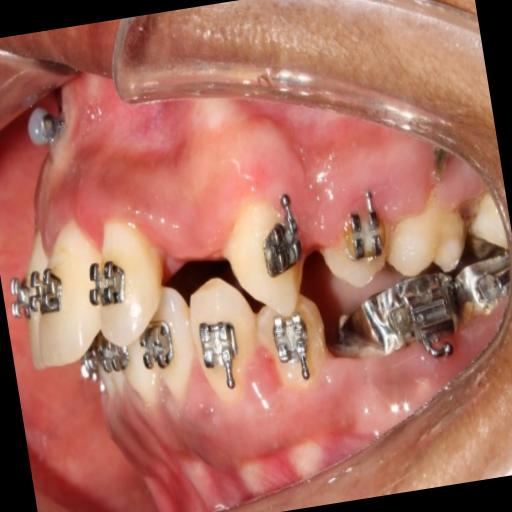correct_brace: (180, 269, 270, 415), (248, 190, 308, 283), (192, 311, 251, 396), (79, 251, 134, 319)
incorrect_brace: (75, 204, 179, 353)
